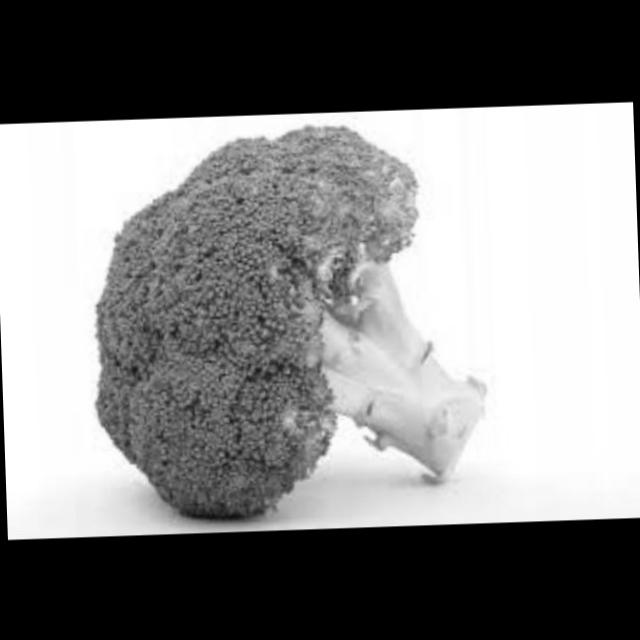bong cai xanh: (74, 105, 504, 522)
